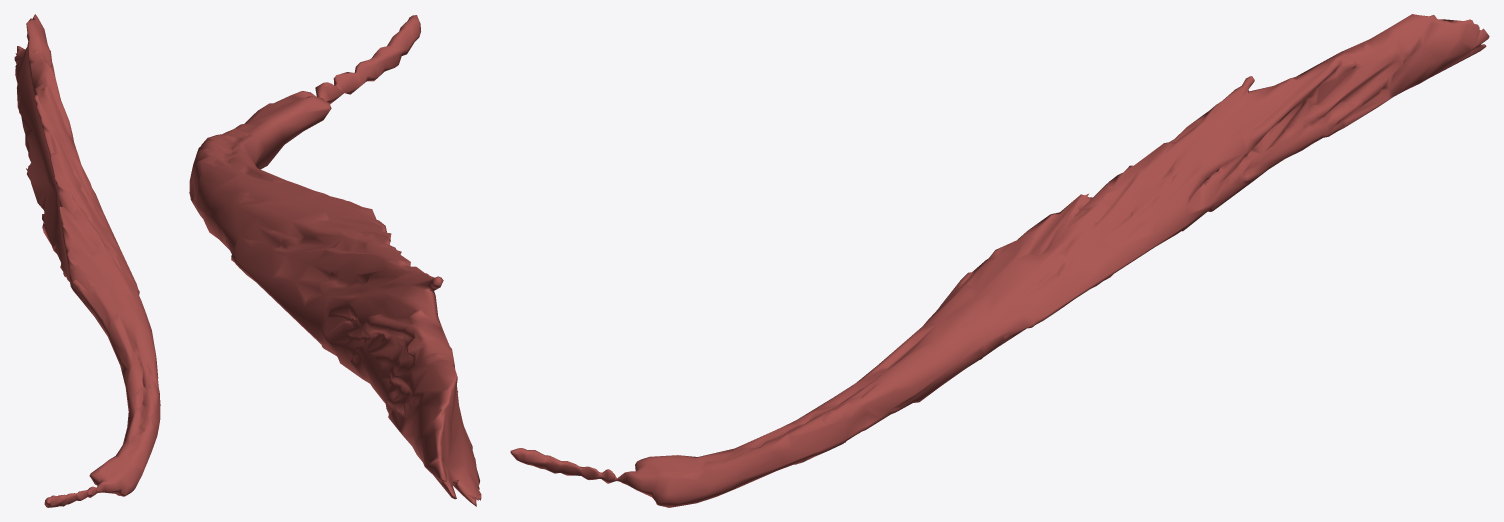
The model's file is FMA37741.glb.
3 views of the same model, side by side, from view 1: azimuth 30°, elevation 25°; view 2: azimuth 210°, elevation 25°; view 3: azimuth 330°, elevation 25° (orthographic). The views are drawn at different scales.
Parts seen in each view (by area): view 1: FMA37741; view 2: FMA37741; view 3: FMA37741.
Boxes of the visible parts, x1,y1,x2,y2 form: FMA37741: (14, 14, 160, 507); FMA37741: (189, 15, 481, 506); FMA37741: (510, 14, 1489, 507).
Bounding box in the file's own units: 0.029 × 0.0143 × 0.0522.
